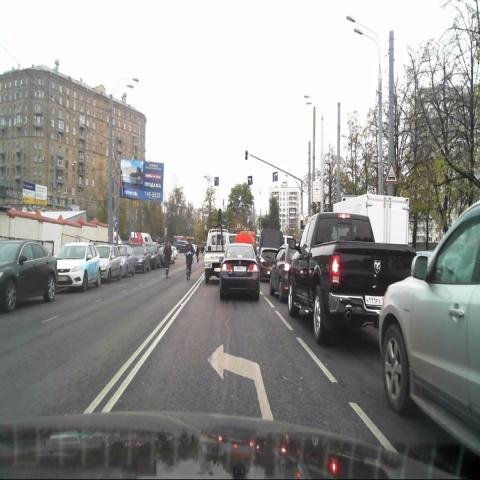1_5: (385, 162, 398, 183)
